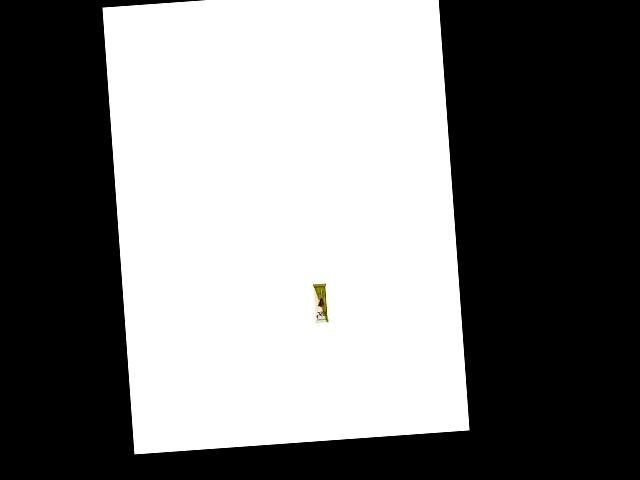chocolate: (309, 281, 332, 325)
